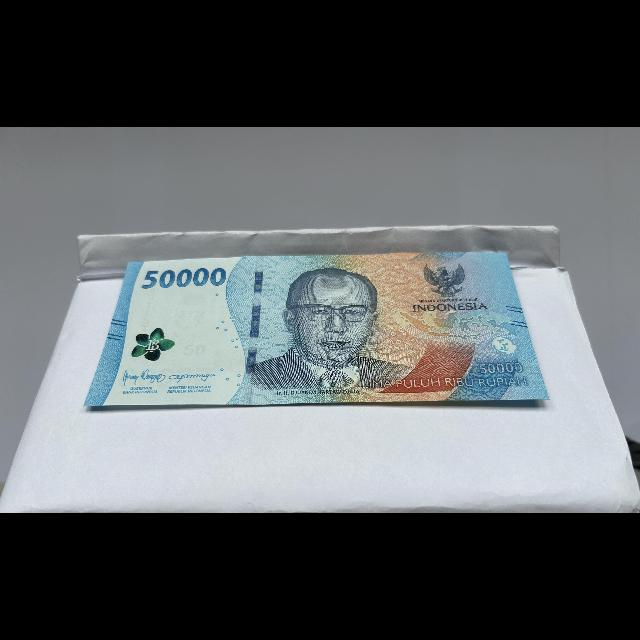Asli-50k: (75, 247, 552, 409)
Tinta-Asli-50k: (127, 315, 181, 371)
